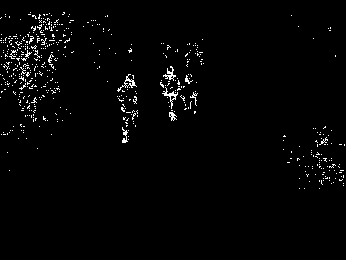person: (116, 74, 140, 144), (159, 65, 180, 121), (180, 72, 198, 114)
